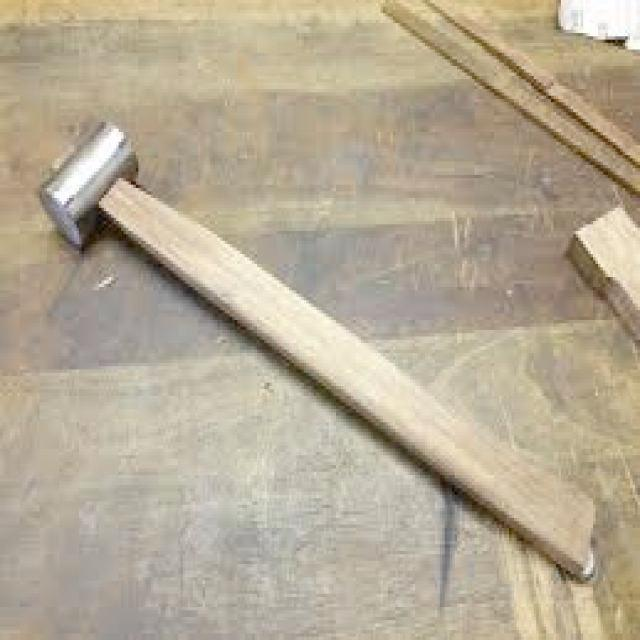hammer: (34, 109, 600, 584)
